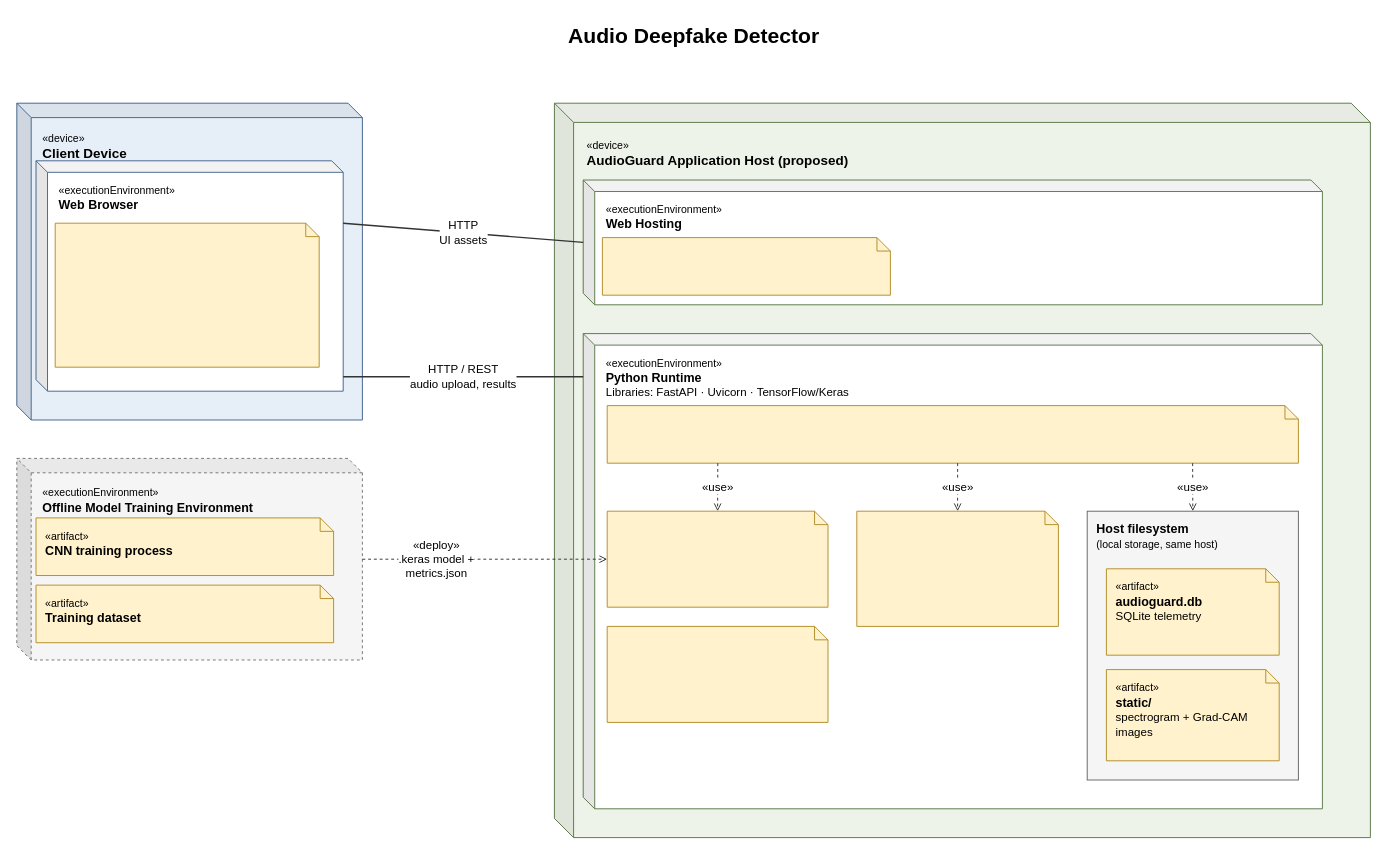
The diagram is 1387 pixels wide and 854 high, and some of its shapes have lost their labels. The centre of each missing label's shape, as x and y in pixels:
"«artifact» api.py — FastAPI application (REST API)" belongs at pixel 952 434.
"«artifact» AudioGuard React UI upload / record audio, view results" belongs at pixel 186 294.
"«artifact» audioguard/ audio preprocessing and Mel-spectrogram code" belongs at pixel 957 568.
"«artifact» Built React assets (HTML, JavaScript, CSS)" belongs at pixel 745 266.
"«artifact» models/*.keras trained CNN model" belongs at pixel 717 558.
"«artifact» models/metrics.json model metadata" belongs at pixel 717 673.
